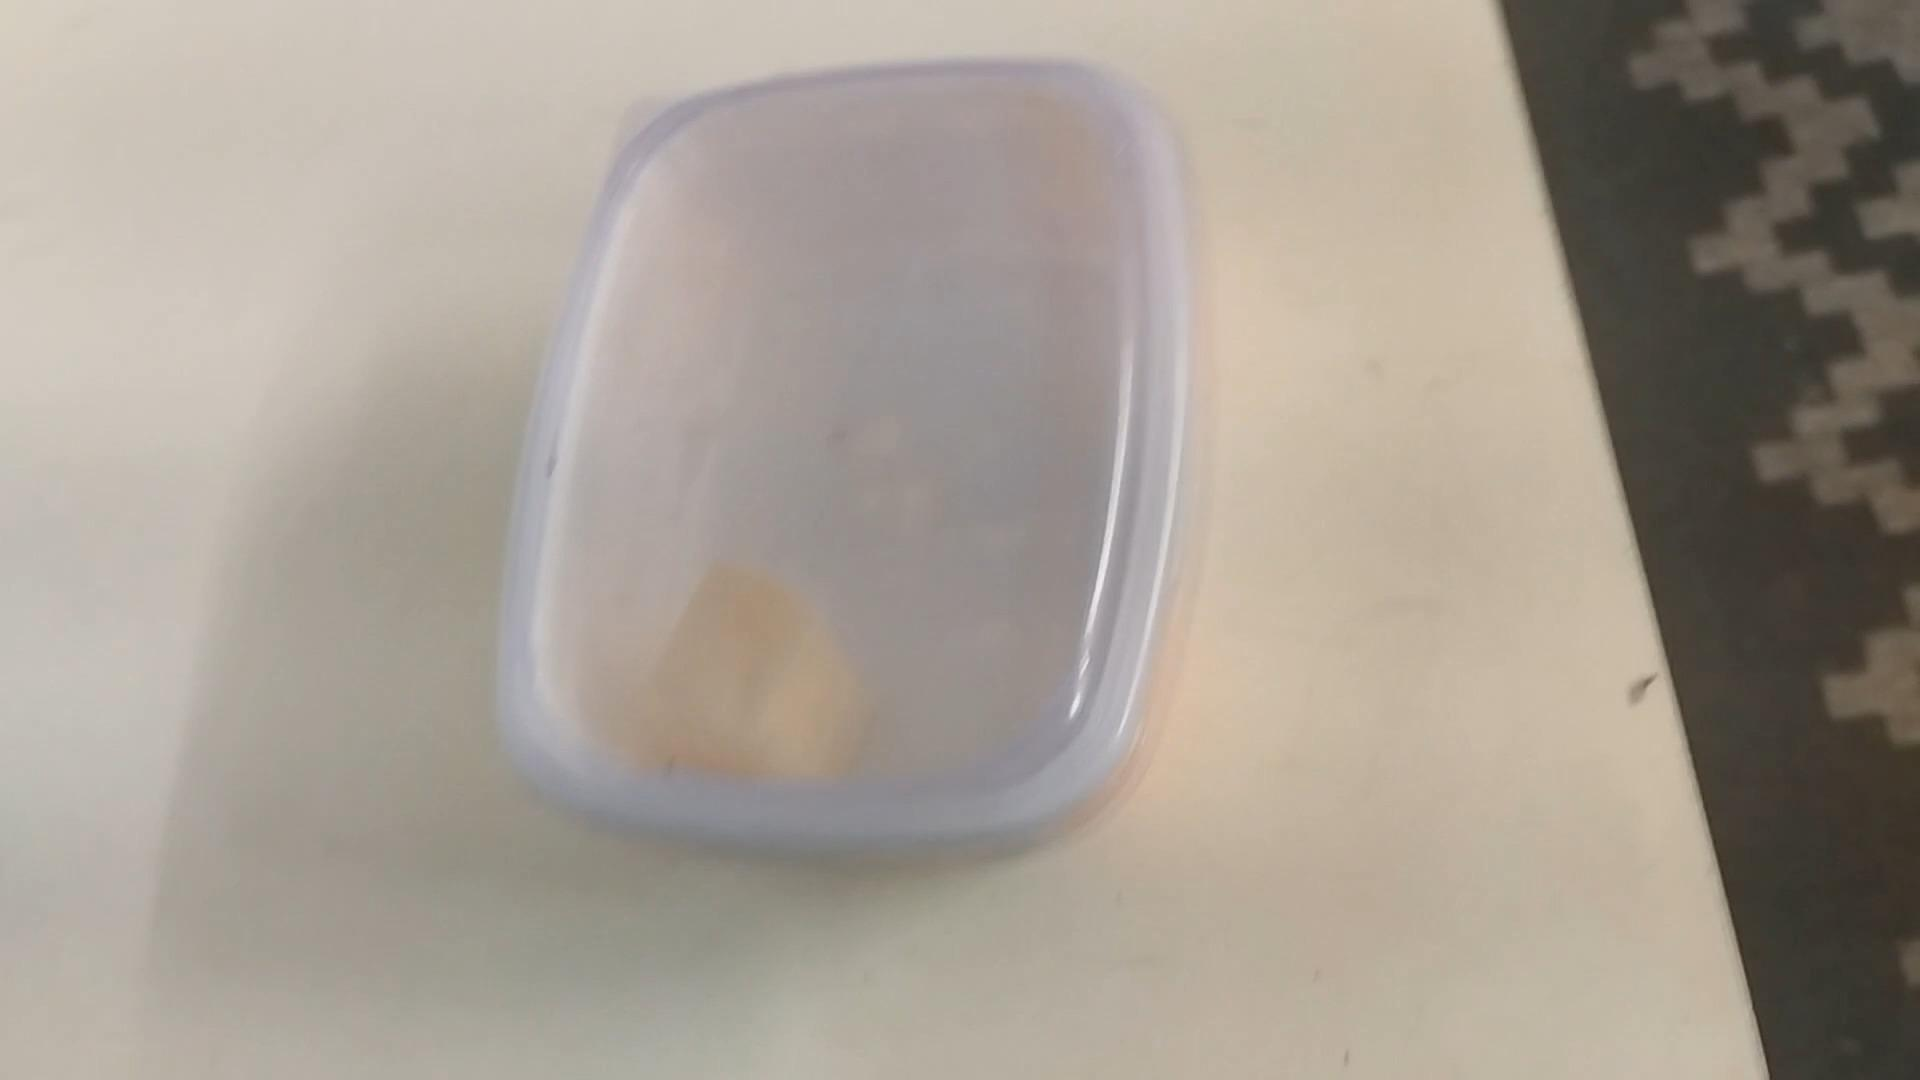butter: (491, 58, 1193, 868)
